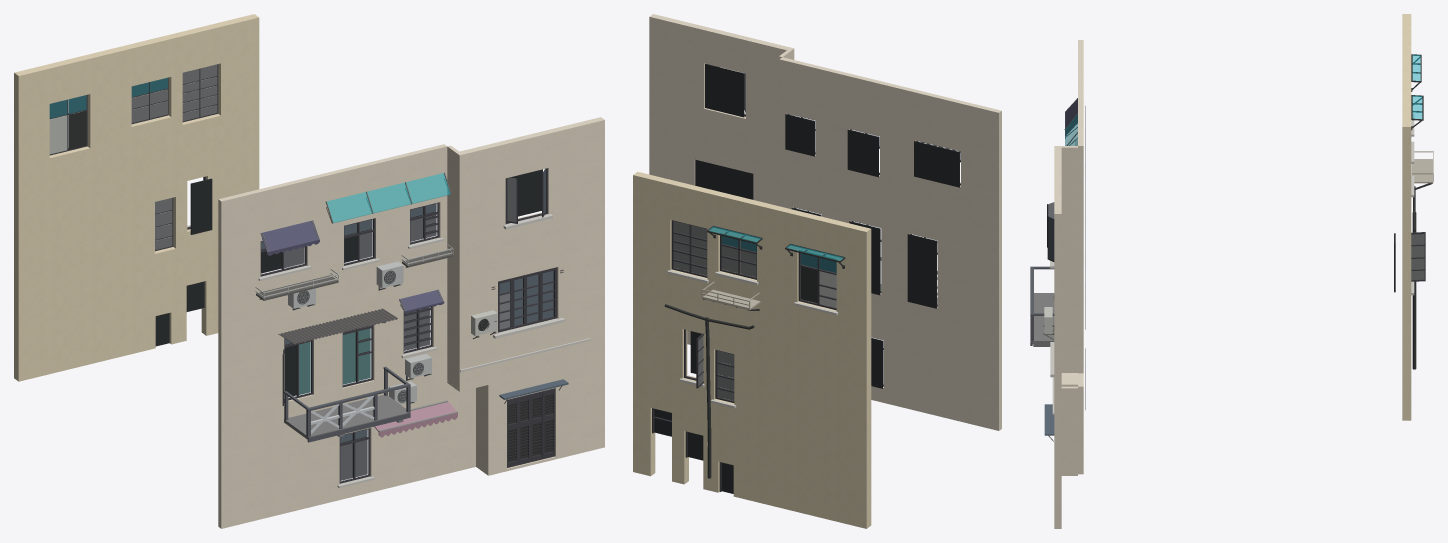
Rendered from full-source.glb.
3 views of the same model, side by side, from view 1: azimuth 30°, elevation 25°; view 2: azimuth 150°, elevation 25°; view 3: azimuth 270°, elevation 25° (orthographic). The views are drawn at different scales.
Parts seen in each view (by area): view 1: 襄阳南路313号修缮后住宅院面; view 2: 襄阳南路313号修缮后住宅院面; view 3: 襄阳南路313号修缮后住宅院面.
Boxes of the visible parts, left/top/right/bottom form: 襄阳南路313号修缮后住宅院面: left=14, top=14, right=604, bottom=528; 襄阳南路313号修缮后住宅院面: left=633, top=14, right=1001, bottom=528; 襄阳南路313号修缮后住宅院面: left=1030, top=14, right=1433, bottom=528.
Size of the model in its own units: 12.82 by 10.21 by 11.5.
30 materials, 2 textured.
